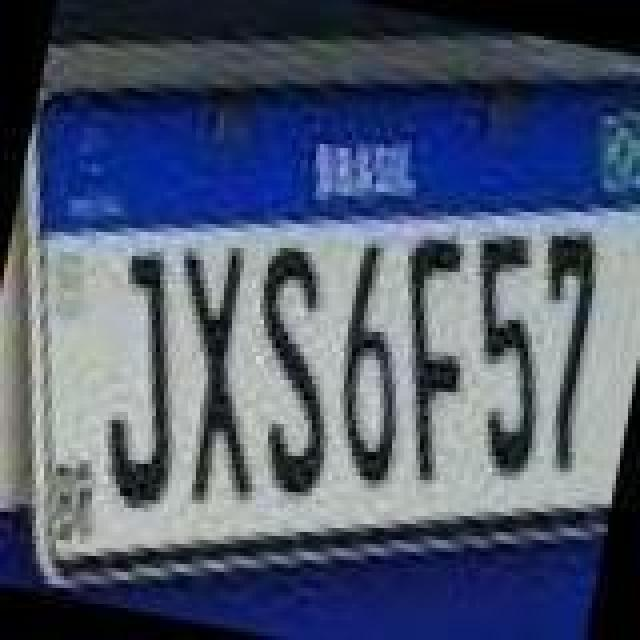5: (436, 226, 572, 478)
6: (318, 238, 434, 490)
7: (502, 226, 618, 478)
F: (362, 232, 486, 488)
J: (80, 246, 208, 514)
S: (224, 236, 368, 500)
X: (134, 236, 298, 516)
